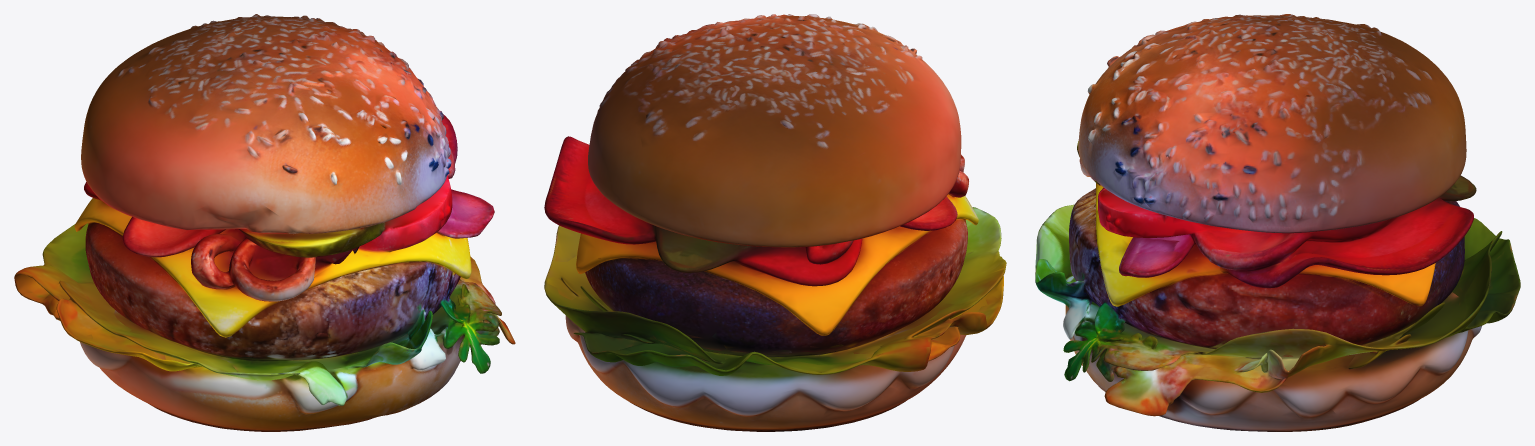
Rendered from Burger.glb.
The picture shows the model from 3 angles, left to right: view 1: azimuth 30°, elevation 25°; view 2: azimuth 150°, elevation 25°; view 3: azimuth 270°, elevation 25°; orthographic projection.
Parts seen in each view (by area): view 1: node_0; view 2: node_0; view 3: node_0.
Part boxes in pixels (bbox=[...]): node_0: bbox=[14, 14, 515, 431]; node_0: bbox=[544, 14, 1006, 431]; node_0: bbox=[1035, 14, 1520, 431].
Bounding box in the file's own units: 0.9911 × 0.7253 × 0.9913.
Materials: 1 (1 with a texture image).
